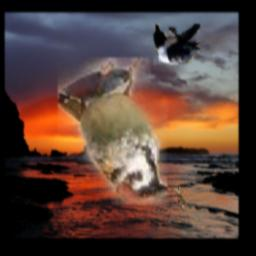Crow: (155, 24, 201, 64)
Sparrow: (58, 58, 167, 206), (172, 185, 187, 213)
